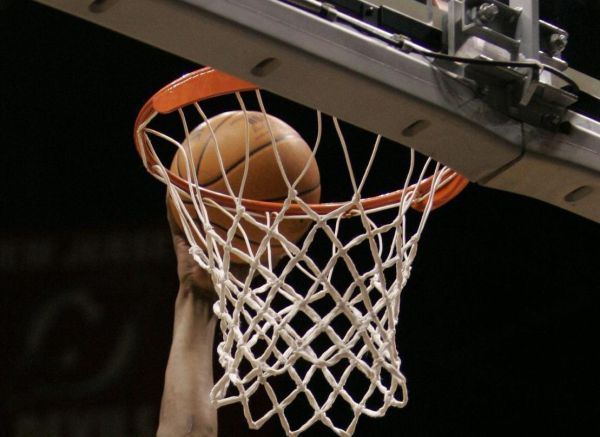basketball: (167, 111, 320, 264)
